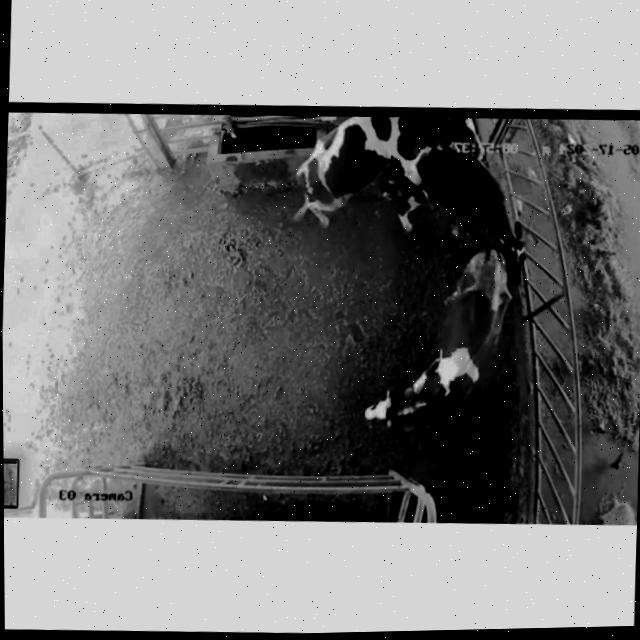ride: (289, 110, 489, 232)
stand: (354, 242, 517, 439), (382, 145, 534, 284)
